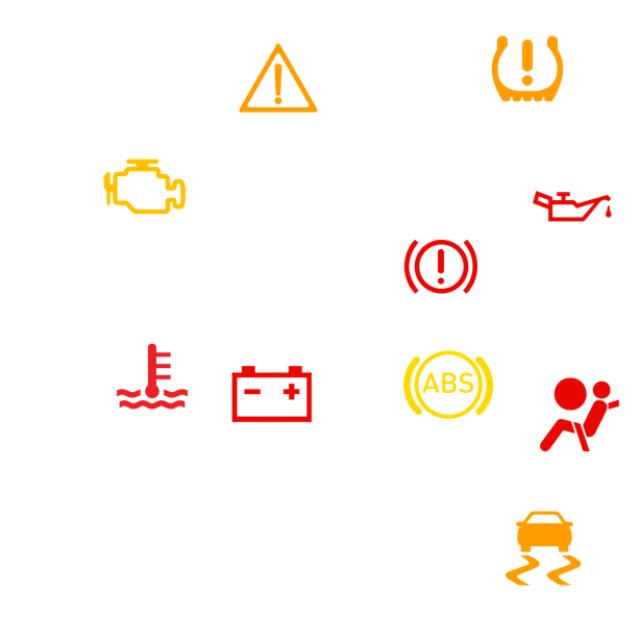Anti Lock Braking System: (399, 336, 497, 434)
Braking System Issue: (392, 218, 490, 316)
Charging System Issue: (223, 345, 321, 443)
Check Engine: (96, 137, 194, 235)
Electronic Stability Problem -ESP-: (494, 500, 592, 598)
Engine Overheating Warning Light: (103, 328, 201, 426)
Low Engine Oil Warning Light: (523, 157, 621, 255)
Low Tire Pressure Warning Light: (478, 20, 576, 118)
Master warning light: (230, 29, 328, 127)
SRS-Airbag: (530, 366, 628, 464)
